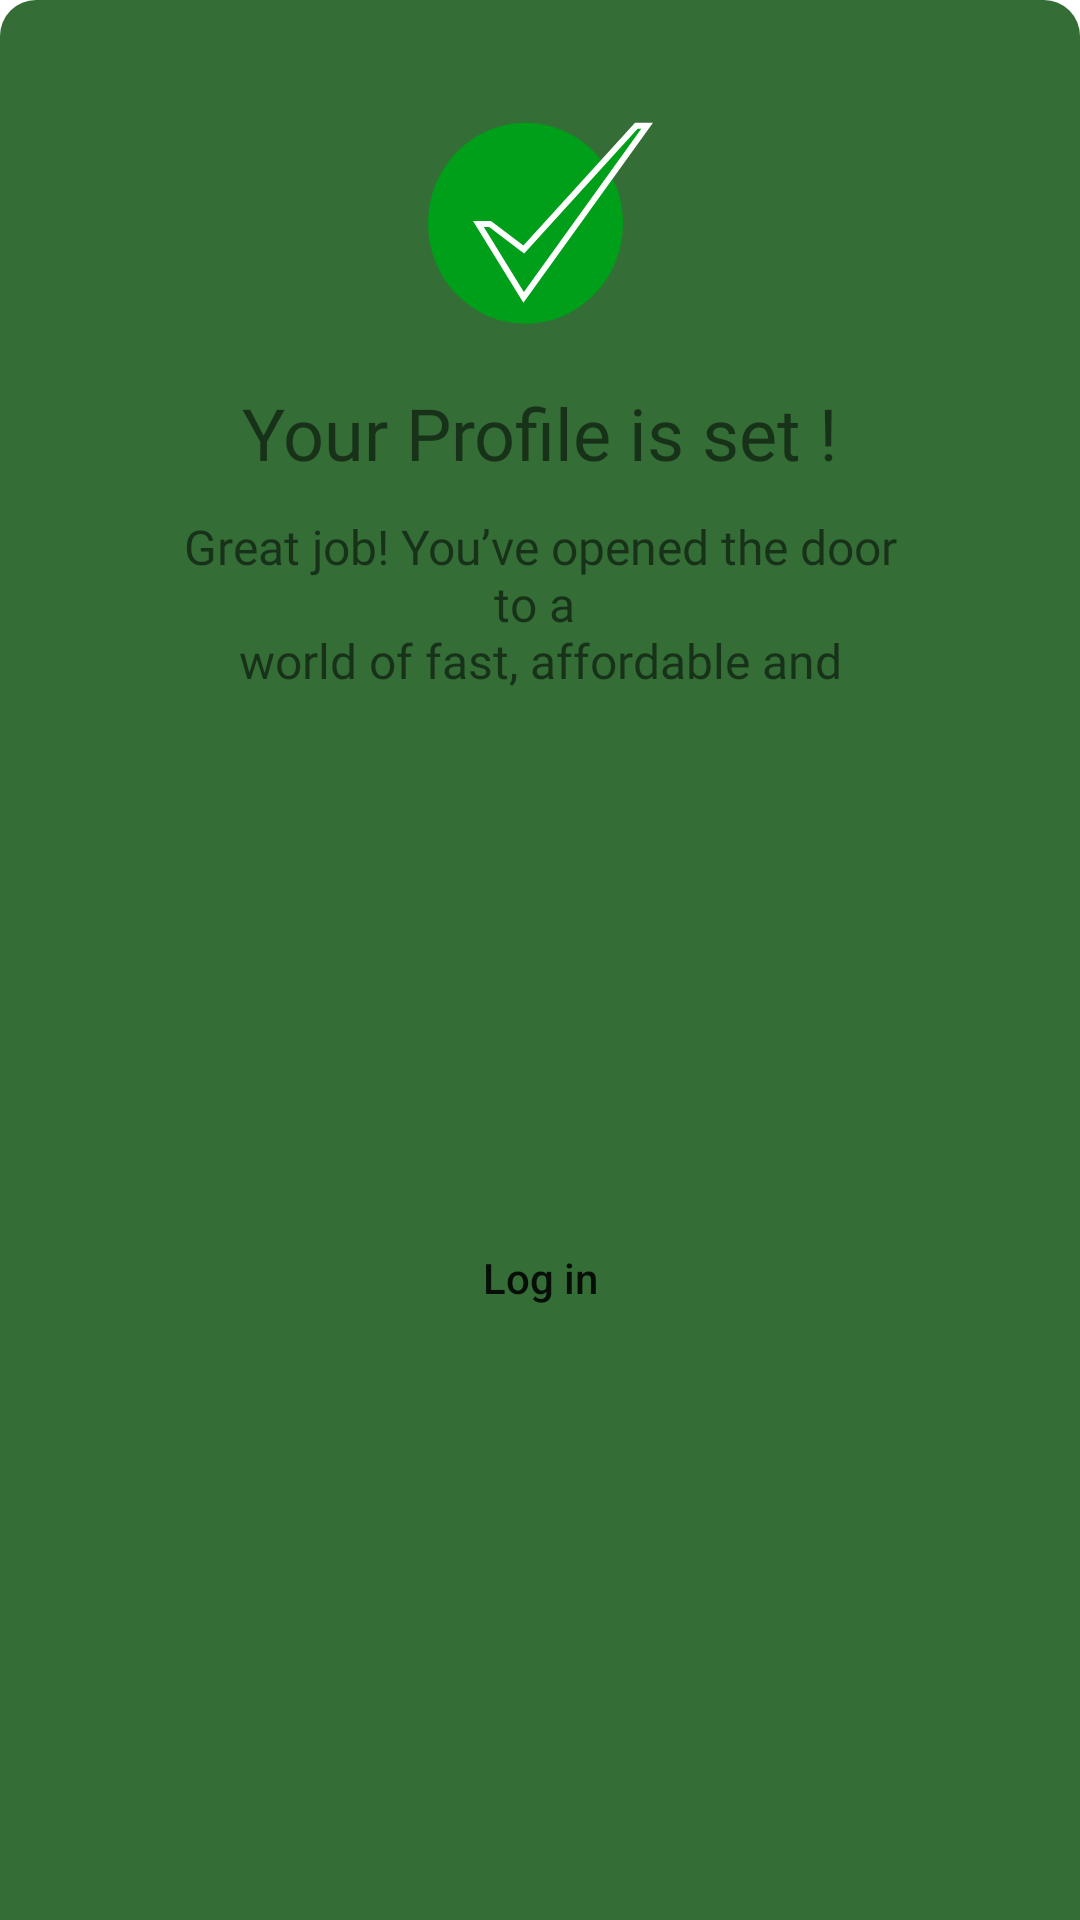

Icon bounding boxes for this 1080x1920 phone screenshot, format BBox(x1, y1, x2, y2):
tick: BBox(428, 122, 653, 324)
